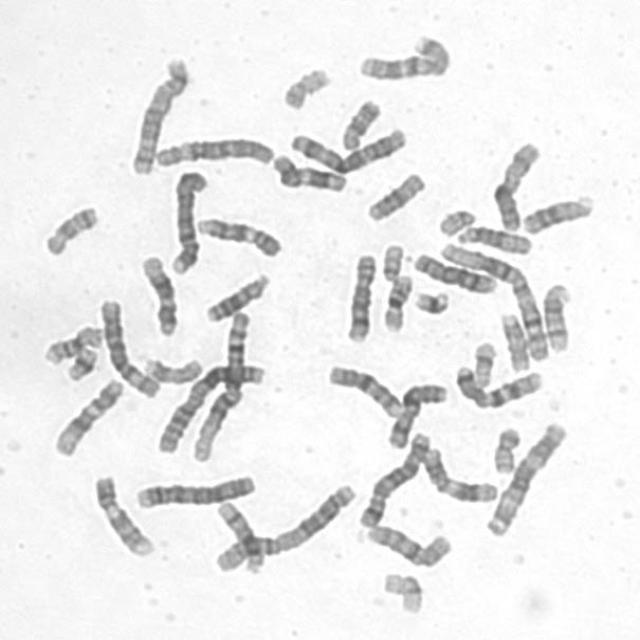A1: (433, 235, 549, 368), (186, 305, 253, 465)
A2: (208, 478, 360, 574), (149, 357, 268, 457)
A3: (479, 416, 570, 538), (284, 121, 408, 175)
B4: (129, 467, 258, 510), (164, 164, 209, 276)
B5: (353, 425, 433, 529), (125, 50, 190, 176)
C10: (323, 359, 404, 419), (361, 518, 454, 570)
C11: (417, 442, 500, 505), (268, 148, 349, 195)
C12: (47, 372, 126, 458), (135, 250, 180, 338)
C6: (94, 293, 163, 400), (148, 131, 275, 170)
C7: (352, 28, 453, 82), (450, 358, 544, 411)
C8: (408, 248, 498, 296), (338, 247, 378, 346)
C9: (88, 469, 155, 558), (192, 210, 284, 258)
D13: (200, 267, 273, 324), (516, 190, 596, 237)
D14: (210, 496, 266, 575), (538, 277, 574, 354)
D15: (361, 167, 427, 224), (452, 219, 534, 256)
E16: (38, 318, 106, 366), (376, 268, 414, 333)
E17: (495, 305, 531, 373), (138, 351, 204, 385)
E18: (38, 199, 100, 257), (335, 93, 383, 152)
F19: (377, 567, 425, 616), (467, 335, 498, 388)
F20: (276, 62, 332, 111), (487, 421, 522, 476)
G21: (60, 340, 100, 382), (408, 285, 452, 316)
G22: (433, 203, 478, 238), (376, 238, 405, 284)
X: (486, 135, 542, 233), (382, 376, 449, 450)
